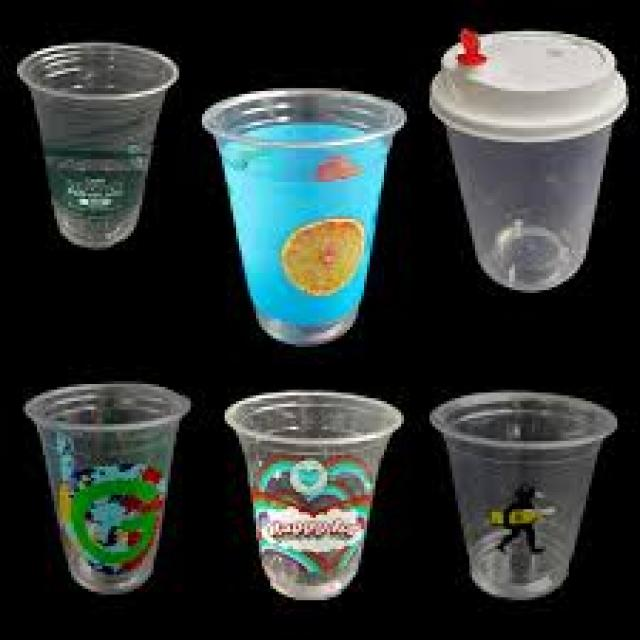bottle: (202, 91, 406, 346), (430, 30, 626, 292), (430, 392, 616, 599), (225, 391, 402, 599), (25, 382, 190, 593), (18, 42, 179, 248)
